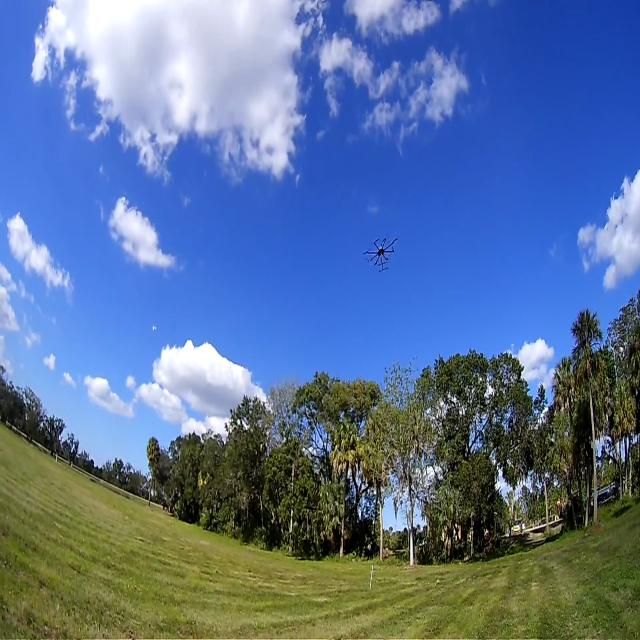drone: (362, 225, 398, 272)
